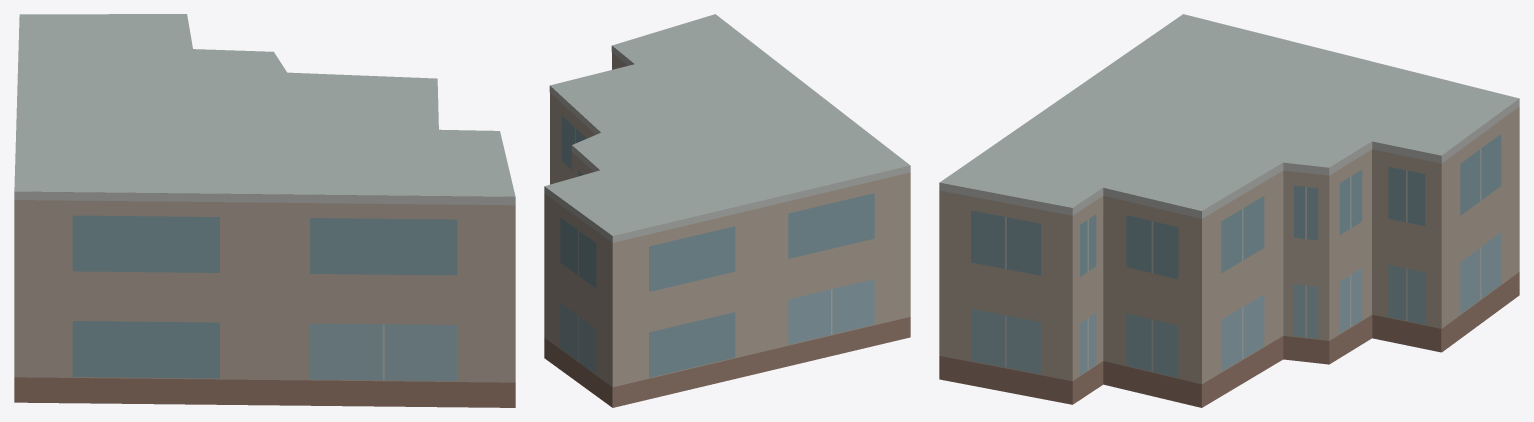
Rendered from survey-upis-32895021.glb.
3 views of the same model, side by side, from view 1: azimuth 30°, elevation 25°; view 2: azimuth 150°, elevation 25°; view 3: azimuth 270°, elevation 25° (orthographic). The views are drawn at different scales.
Parts seen in each view (by area): view 1: survey-upis-32895021.tmp; view 2: survey-upis-32895021.tmp; view 3: survey-upis-32895021.tmp.
Boxes of the visible parts, box(x1,y1,x2,y2) form: survey-upis-32895021.tmp: box(14, 14, 515, 407); survey-upis-32895021.tmp: box(544, 14, 910, 407); survey-upis-32895021.tmp: box(939, 14, 1519, 407).
Bounding box in the file's own units: 13.11 × 6.1 × 16.31.
